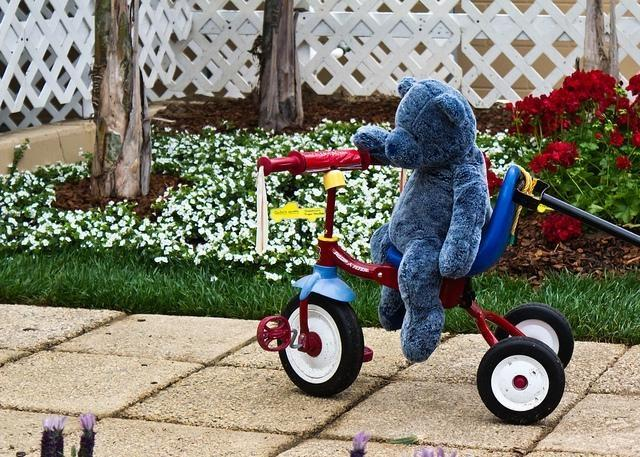bicycle: (256, 146, 572, 422)
